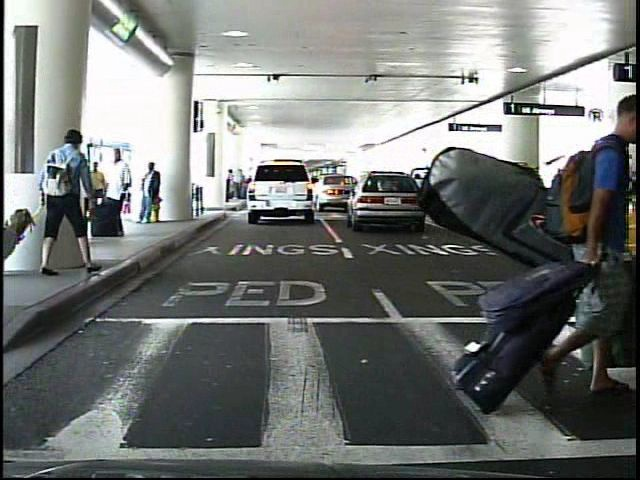person: (530, 88, 640, 393), (39, 127, 88, 276), (101, 146, 129, 239), (81, 158, 106, 233), (138, 160, 164, 226), (557, 164, 572, 213), (571, 168, 584, 212)
